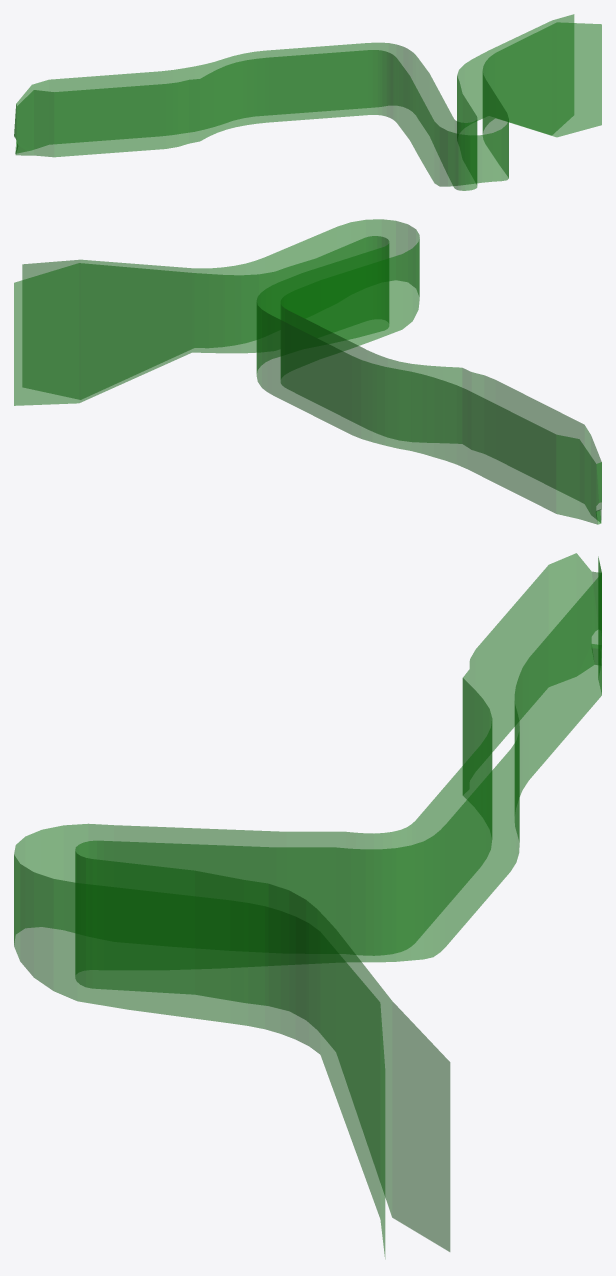
Rendered from wall7.obj.
The picture shows the model from 3 angles, top to bottom: view 1: azimuth 30°, elevation 25°; view 2: azimuth 150°, elevation 25°; view 3: azimuth 270°, elevation 25°; orthographic projection. The views are drawn at different scales.
Size of the model in its own units: 423 by 94.58 by 215.
